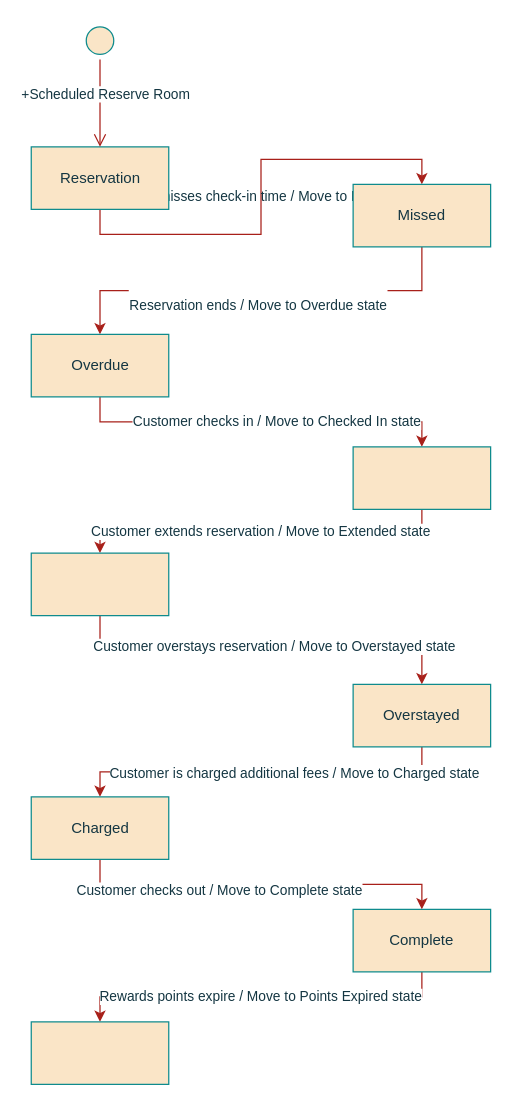
The diagram is 513 pixels wide and 1106 high, and some of its shapes have lost their labels. The shapes that lost their labels are listed below. From the top down, each one's centre as x and y in pixels, then its label:
At point (421, 477): "Checked In".
At point (99, 584): "Extended".
At point (99, 1052): "Points Expired".
